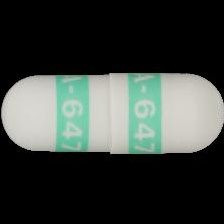51655-101: (0, 0, 224, 224)
